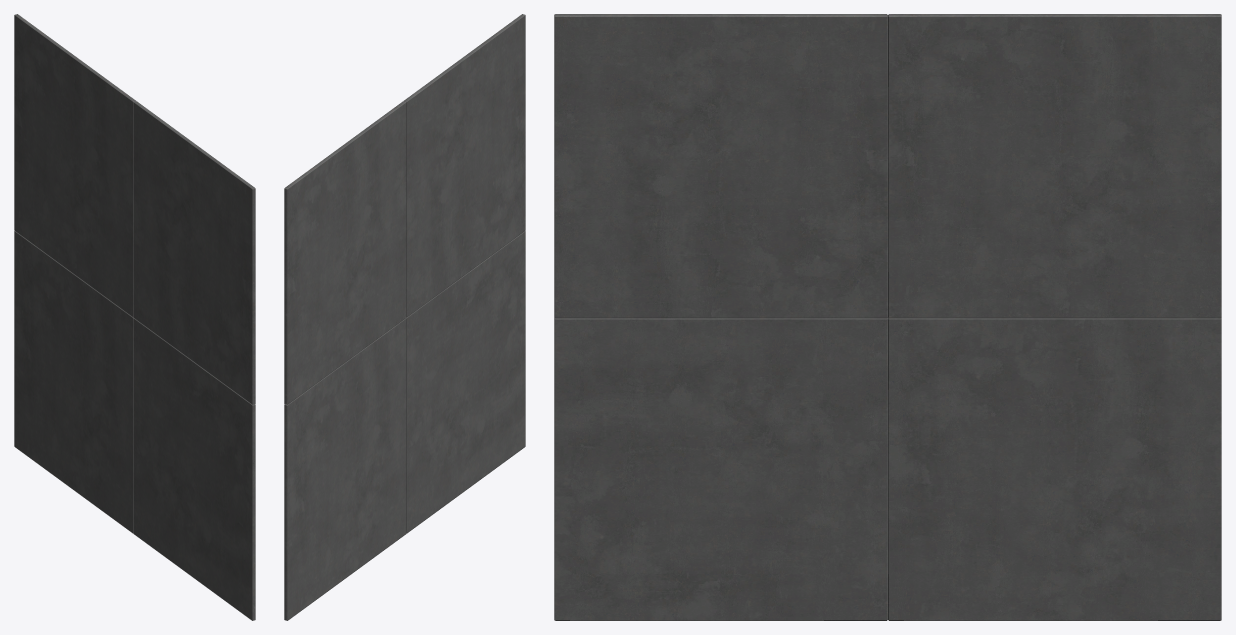
File: cP_Pathway03_Large_Comb03.dae
3 views of the same model, side by side, from view 1: azimuth 30°, elevation 25°; view 2: azimuth 150°, elevation 25°; view 3: azimuth 270°, elevation 25° (orthographic). The views are drawn at different scales.
Visible parts, largest first — view 1: cP_Pathway03_Large_Comb03.001; view 2: cP_Pathway03_Large_Comb03.001; view 3: cP_Pathway03_Large_Comb03.001.
Boxes of the visible parts, <box> form: cP_Pathway03_Large_Comb03.001: <box>14,14,255,620</box>; cP_Pathway03_Large_Comb03.001: <box>284,14,525,620</box>; cP_Pathway03_Large_Comb03.001: <box>554,14,1221,620</box>.
Bounding box in the file's own units: 0.0653 × 8 × 8.
